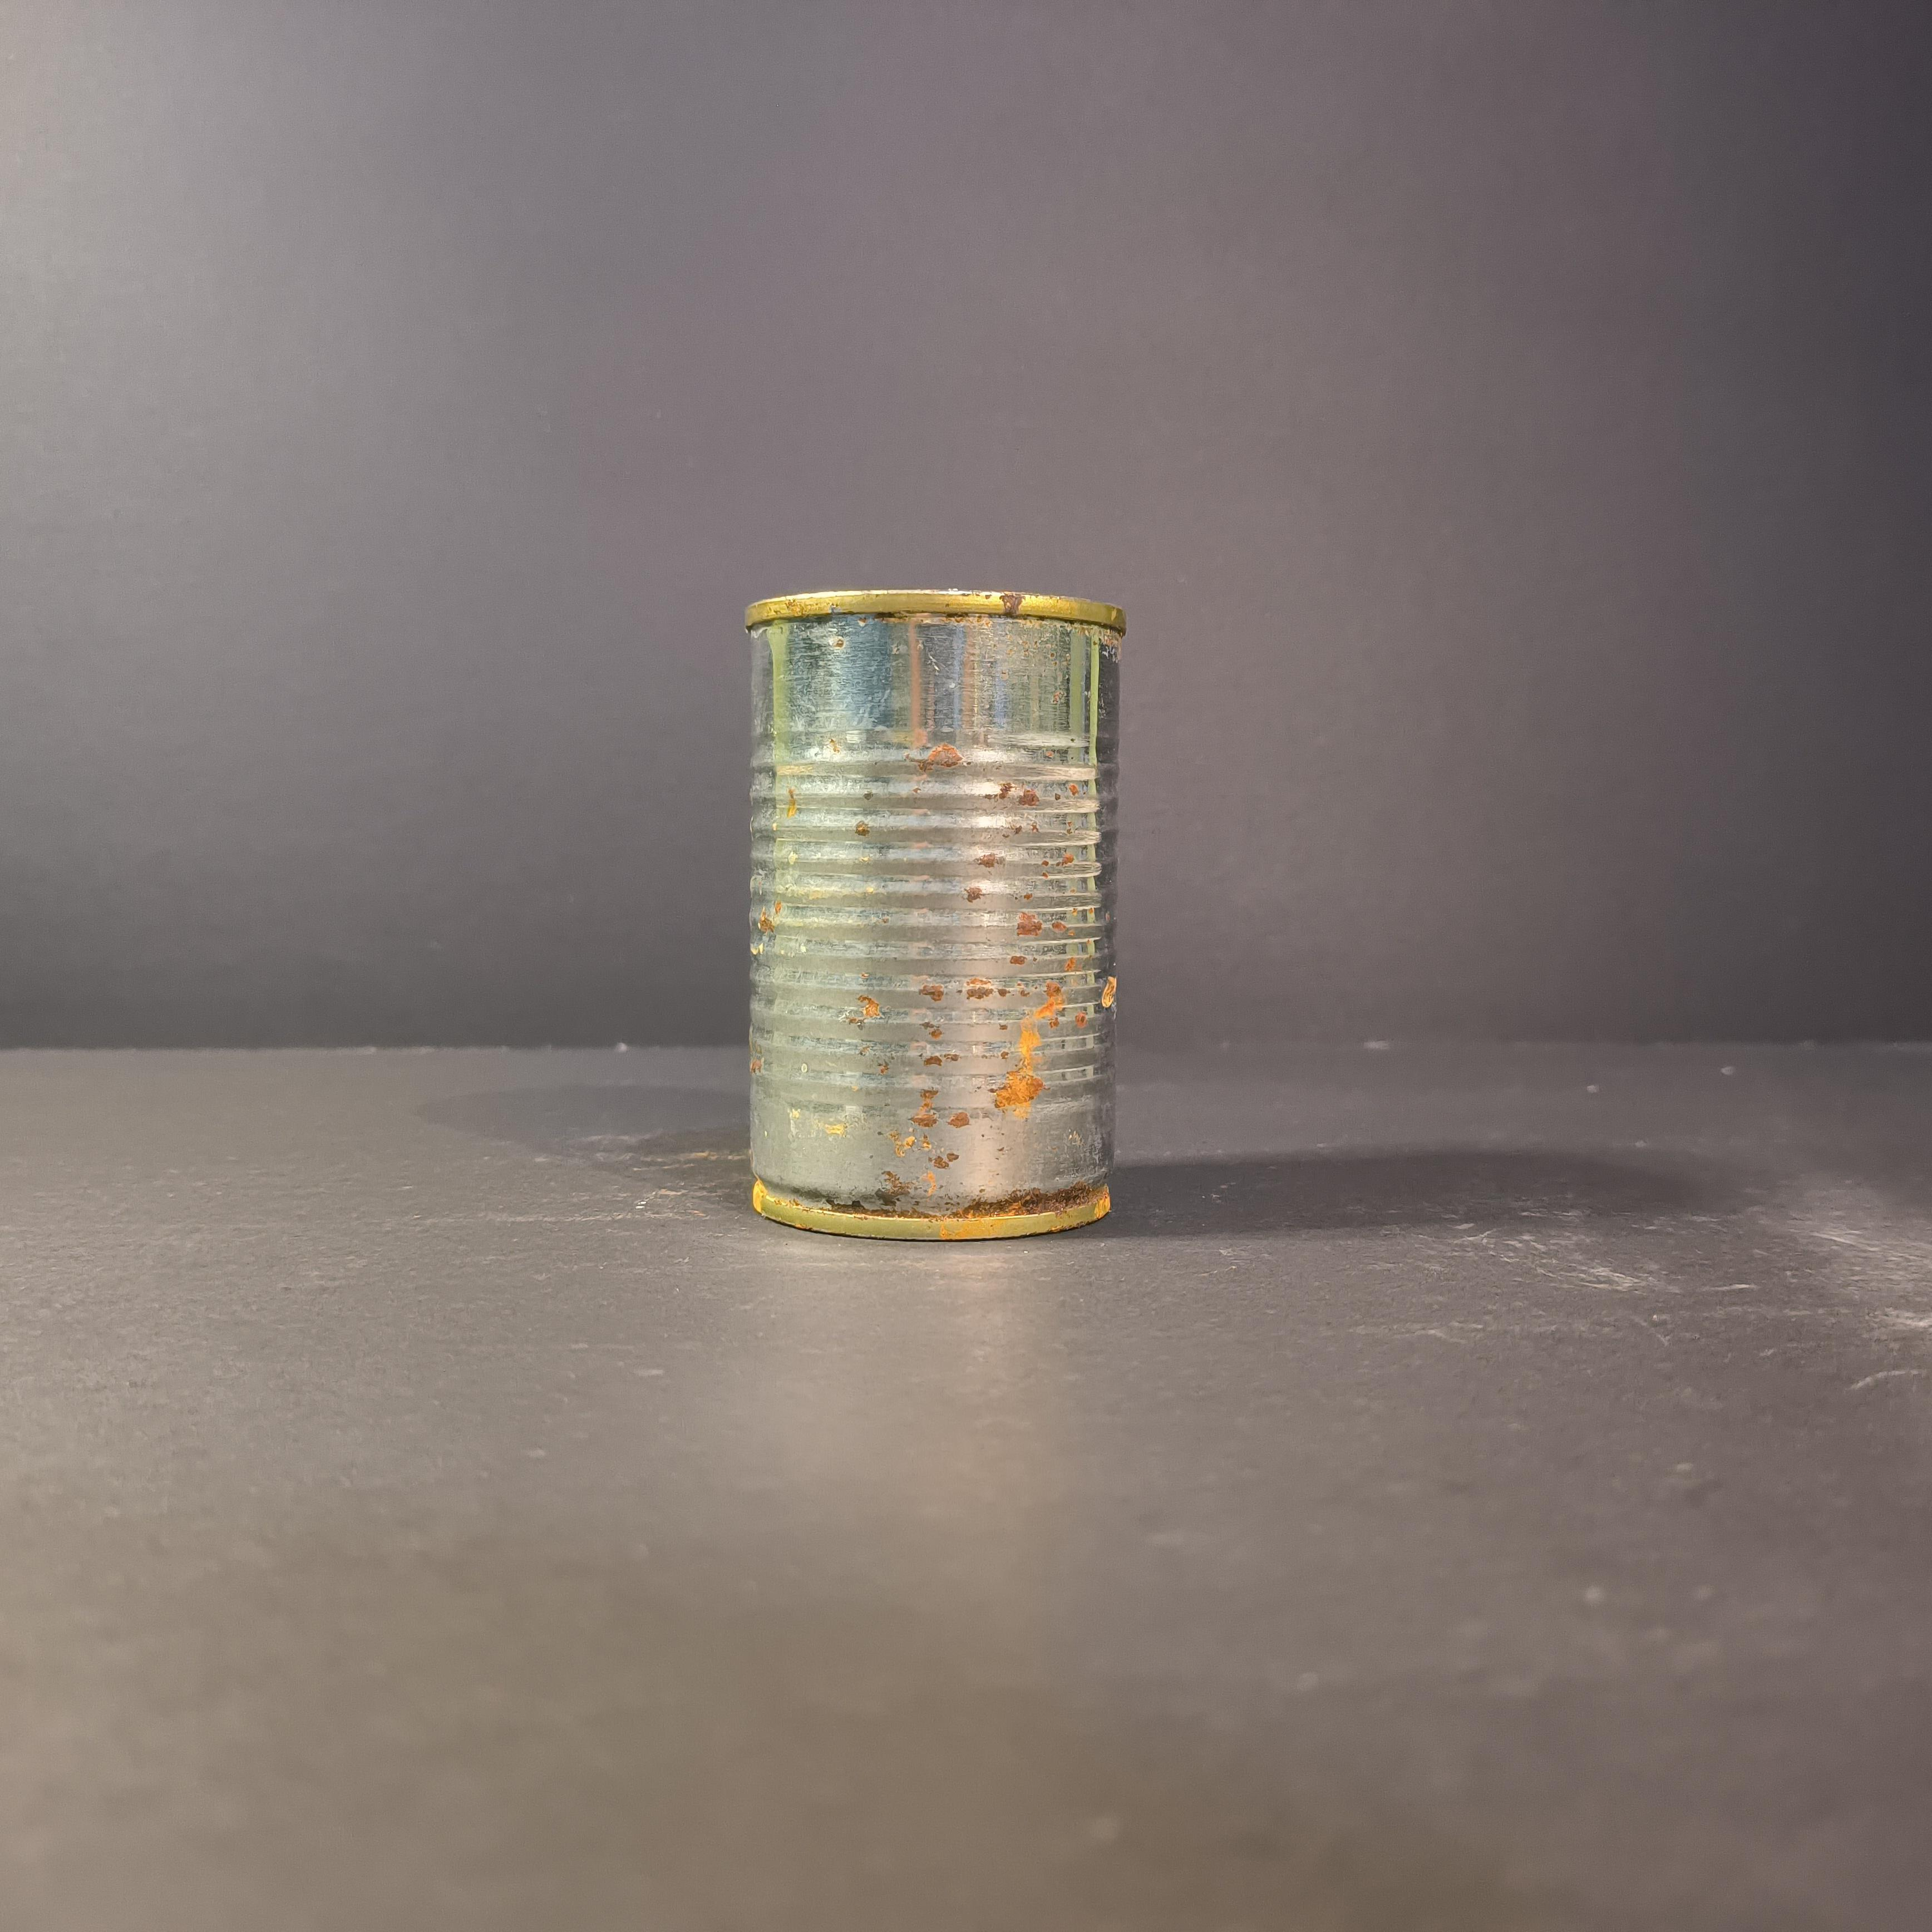Rusted: (729, 564, 1138, 1249)
